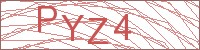4: (111, 14, 134, 41)
P: (36, 5, 58, 34)
Y: (59, 14, 84, 43)
Z: (88, 17, 111, 45)
